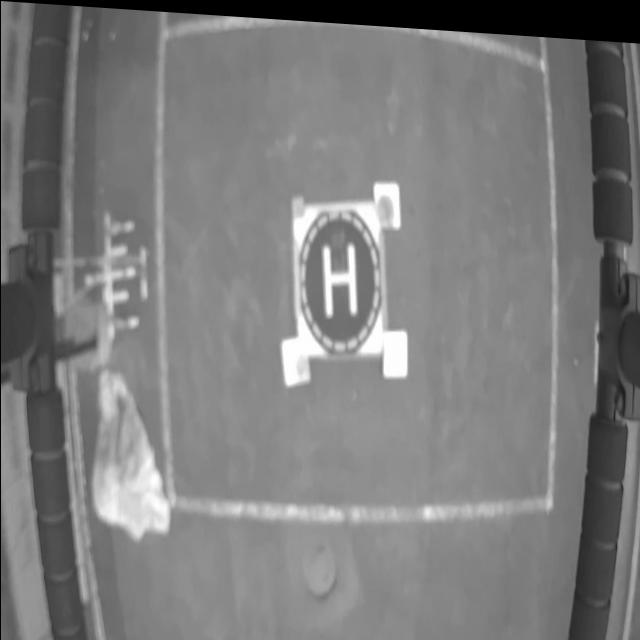Helipad: (321, 238, 358, 309)
